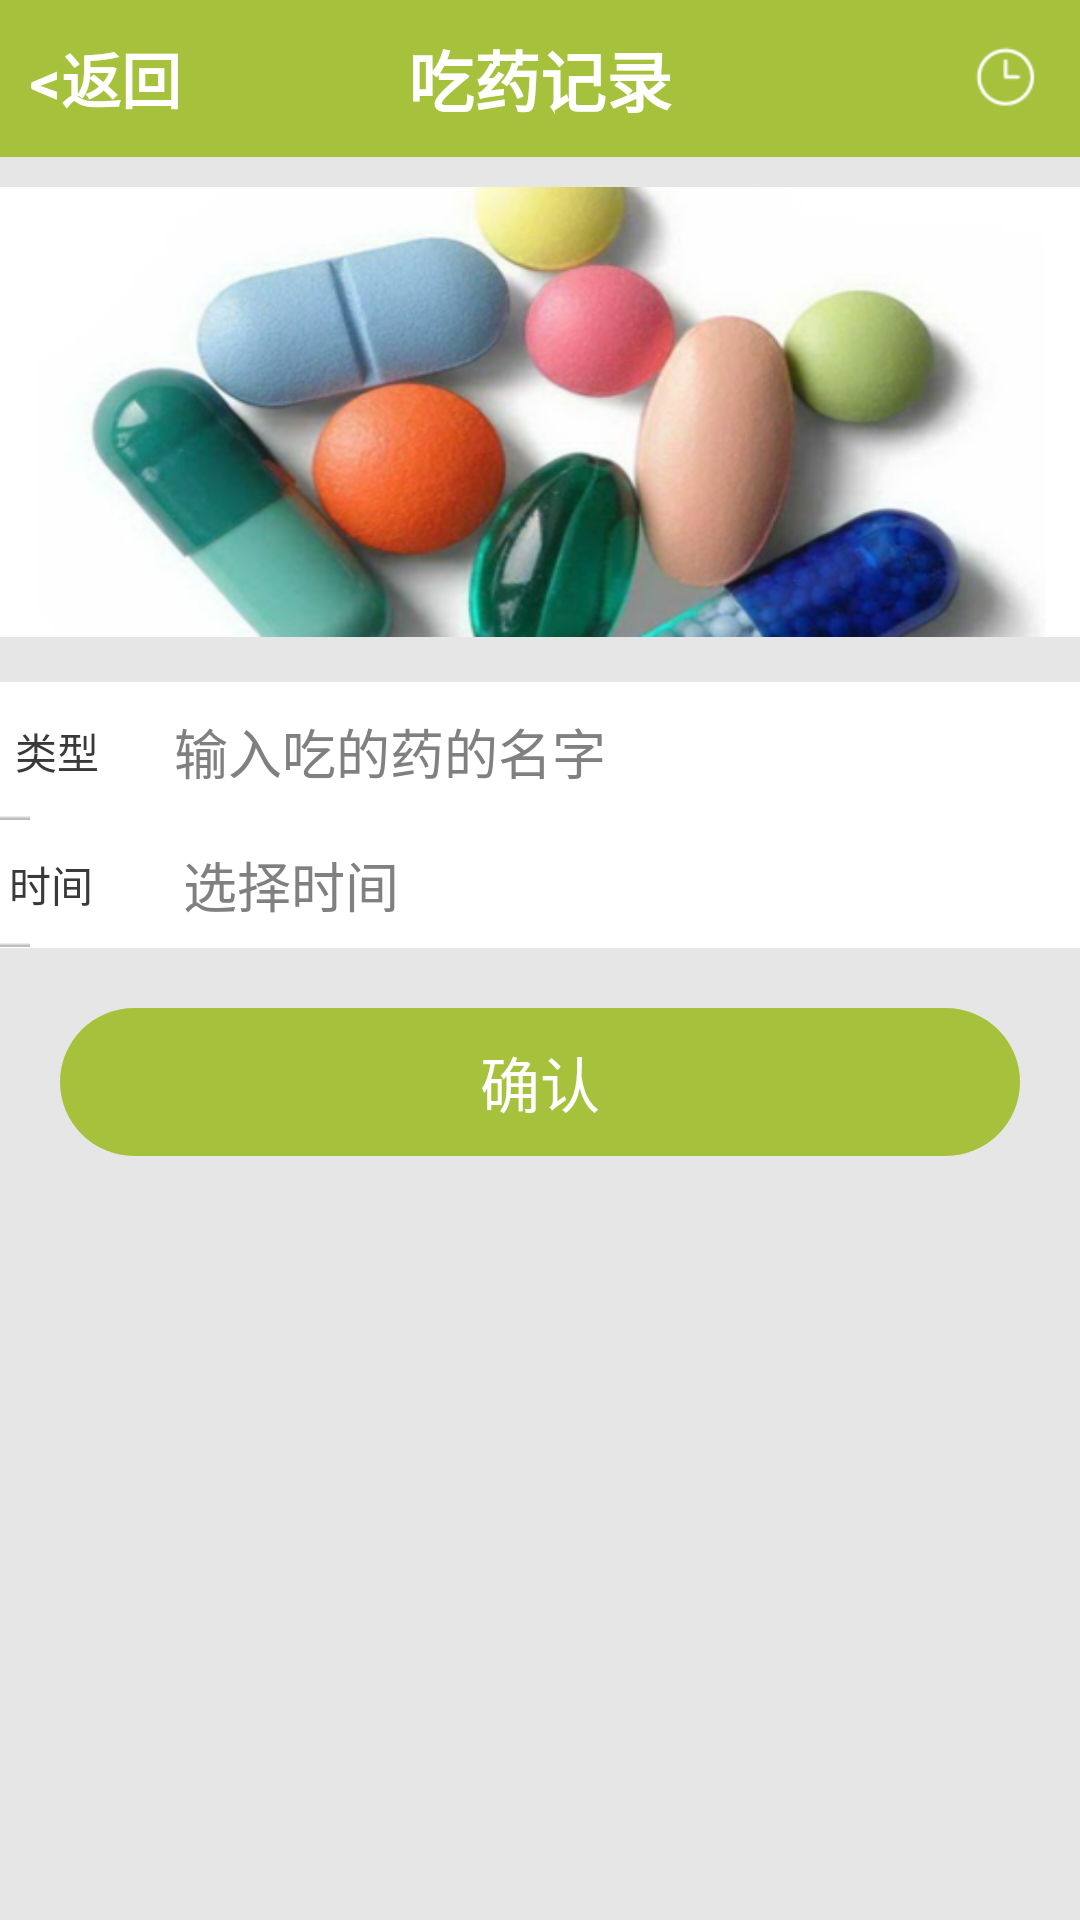

Where to tap for icons on this 1080×1920 app screen, as (x,y):
pocket clock: (1005,76)
